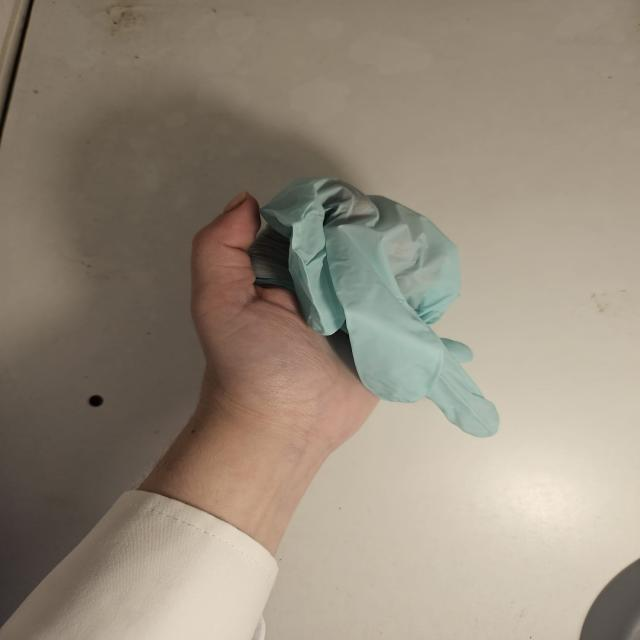glove_partial: (187, 175, 502, 438)
